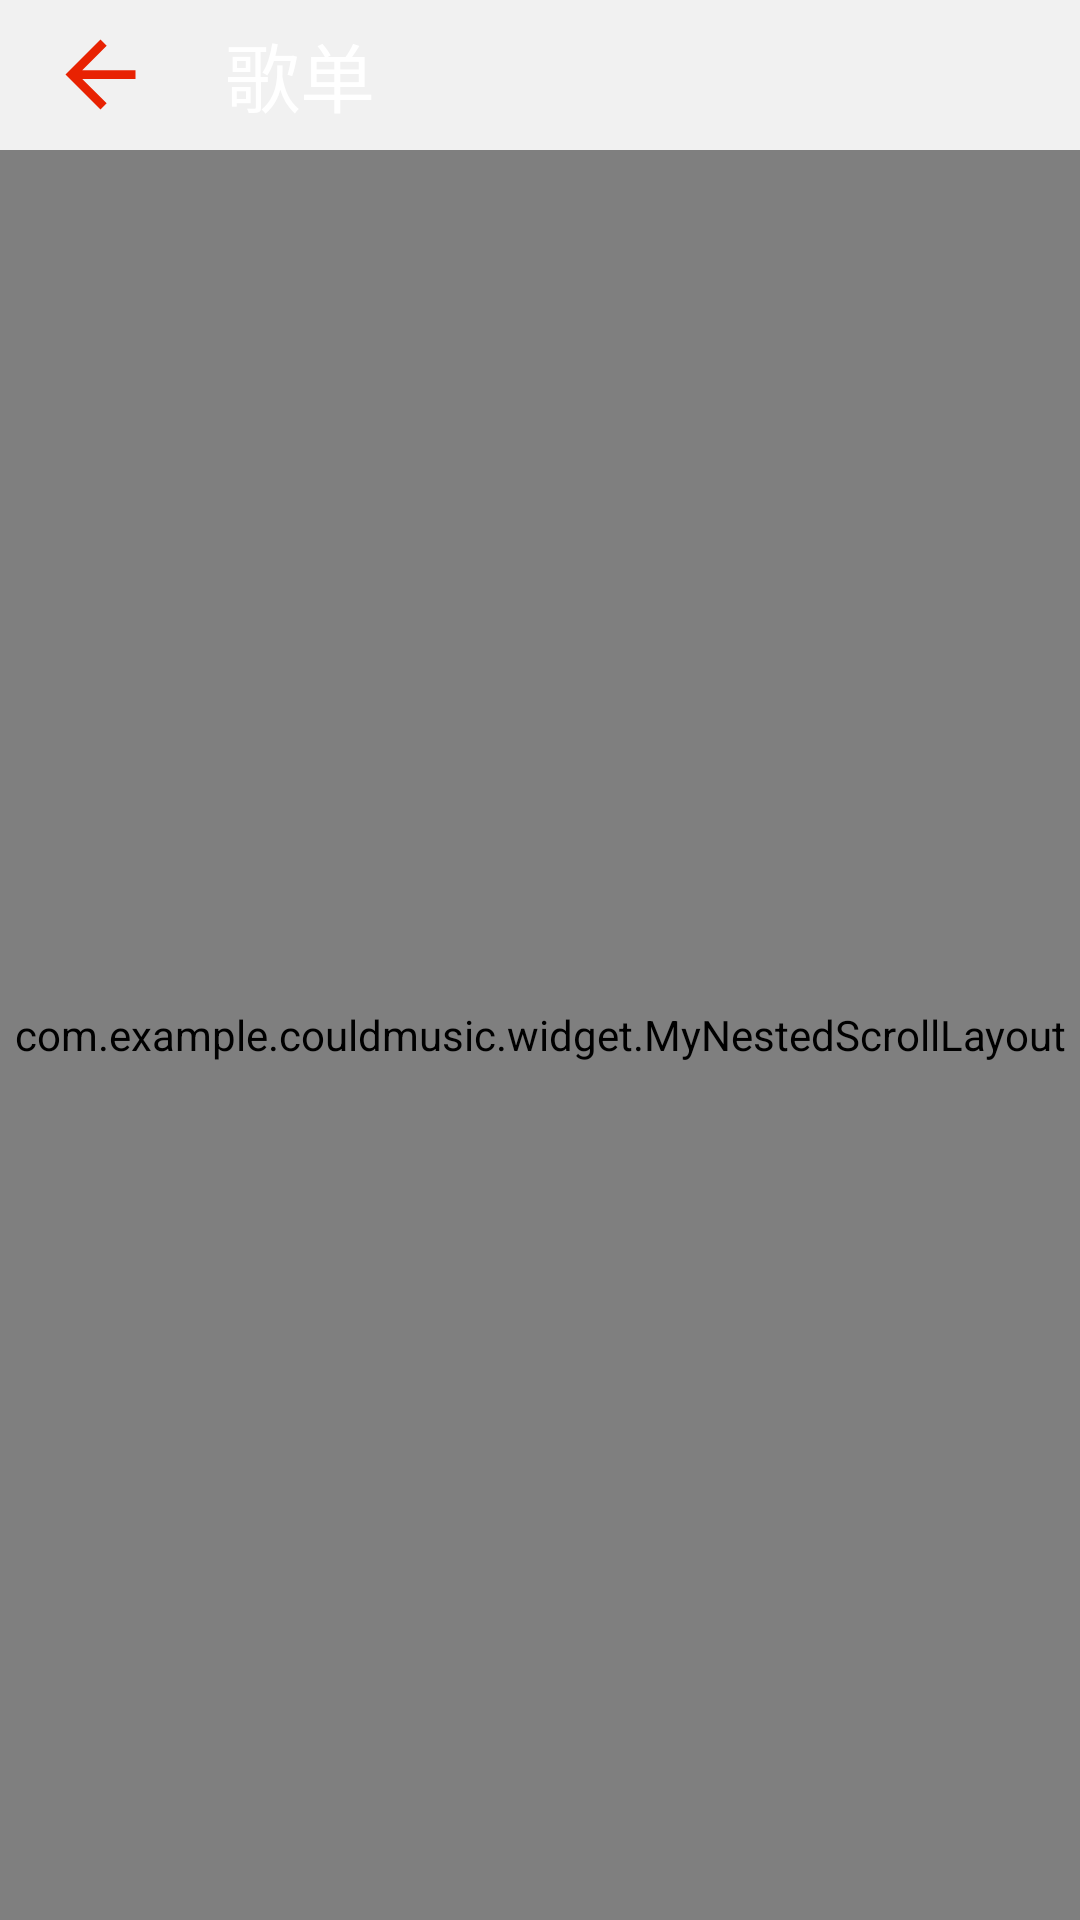

Named icons in this screenshot (1080px x 1920px) and their bounding boxes, BBox(x1, y1, x2, y2):
arrow back: BBox(65, 39, 136, 110)
